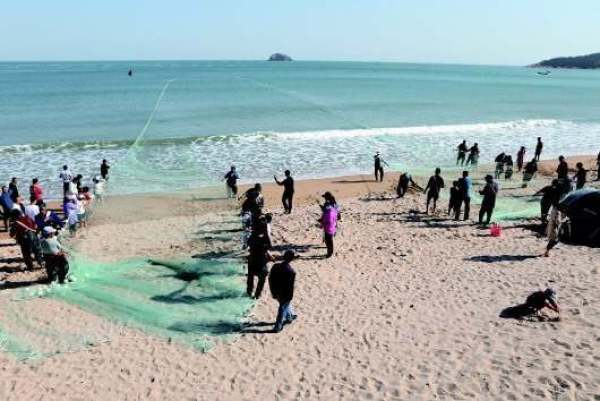net: (78, 260, 246, 339)
